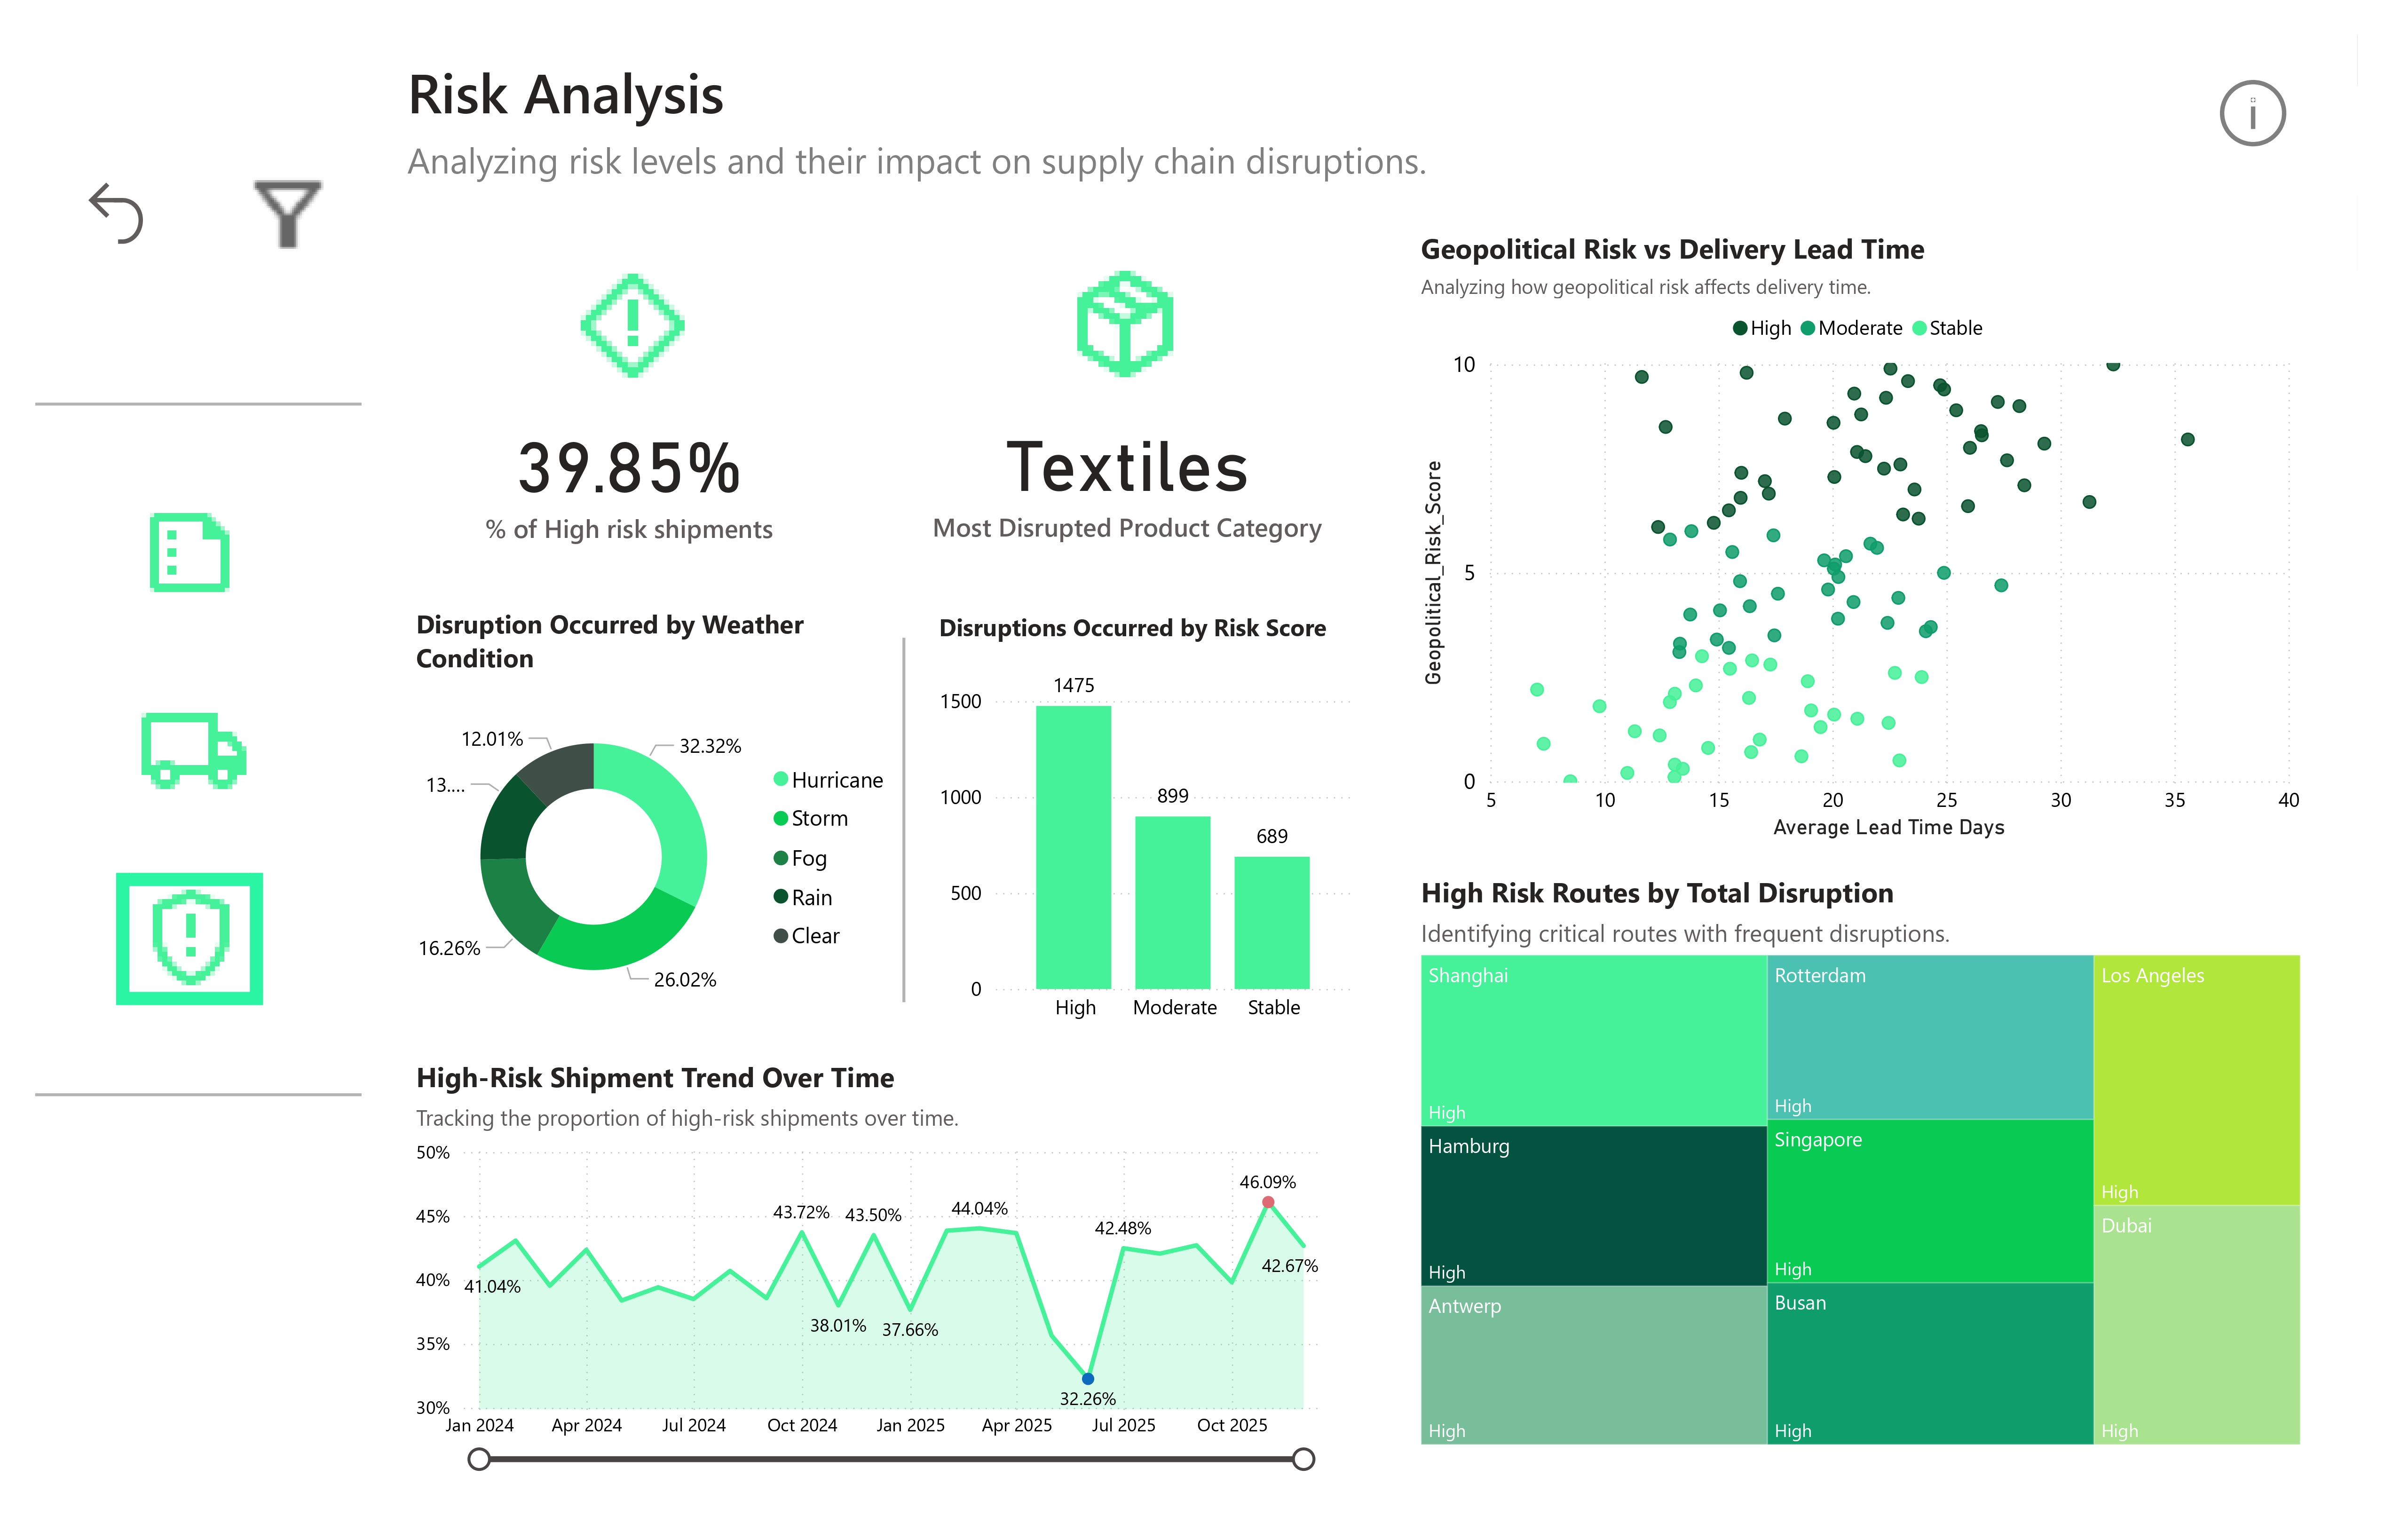

What the dashboard file says about the page in this screenshot:
{"tool":"powerbi","page":{"name":"Risk Analysis","canvas":[1580,1000],"ordinal":2},"visuals":[{"type":"shape","box":[0,0,222,1000],"z":0},{"type":"shape","box":[222,0,1358,108],"z":1000},{"type":"image","box":[64,294,82,116],"z":2000},{"type":"image","box":[64,440,88,94],"z":3000},{"type":"shape","box":[55,570,100,90],"z":4000},{"type":"image","box":[60,570,92,88],"z":5000},{"type":"shape","box":[0,170,222,162],"z":6000},{"type":"shape","box":[0,640,222,162],"z":7000},{"type":"actionButton","box":[28,94,56,54],"z":8000},{"type":"actionButton","box":[122,84,100,76],"z":9000},{"type":"textbox","box":[248,8,668,92],"z":10000},{"type":"textbox","box":[247.5,62.5,752.5,70],"z":11000},{"type":"shape","box":[240,120,328,252],"z":12000},{"type":"shape","box":[582.5,122.5,320,250],"z":13000},{"type":"shape","box":[240,387.5,662.5,295],"z":14000},{"type":"shape","box":[240,695,660,285],"z":15000},{"type":"shape","box":[920,122.5,637.5,430],"z":16000},{"type":"shape","box":[920,570,637.5,410],"z":17000},{"type":"actionButton","box":[1480,24,66,58],"z":18000},{"type":"card","fields":{"Values":["Measure Table.% of High risk shipments"]},"box":[254,226,300,148],"z":19000},{"type":"image","box":[357.5,150,97.5,95],"z":20000},{"type":"card","fields":{"Values":["Min(db_supply_chain_risk supply_data.Product_Category)"]},"box":[592.5,225,300,147.5],"z":21000},{"type":"image","box":[680,147.5,122.5,97.5],"z":22000},{"type":"scatterChart","title":"Geopolitical Risk vs Delivery Lead Time","fields":{"Y":["db_supply_chain_risk supply_data.Geopolitical_Risk_Score"],"Series":["db_supply_chain_risk supply_data.risk_score"],"X":["Avg(db_supply_chain_risk supply_data.Lead_Time_Days)"]},"box":[938,132,608,420],"z":23000},{"type":"treemap","title":"High Risk Routes by Total Disruption","fields":{"Group":["db_supply_chain_risk supply_data.Origin_Port"],"Values":["Sum(db_supply_chain_risk supply_data.Disruption_Occurred)"],"Details":["db_supply_chain_risk supply_data.risk_score"]},"box":[938,570,608,394],"z":24000},{"type":"donutChart","title":"Disruption Occurred by Weather Condition","fields":{"Category":["db_supply_chain_risk supply_data.Weather_Condition"],"Y":["Sum(db_supply_chain_risk supply_data.Disruption_Occurred)"]},"box":[254,388,338,296],"z":25000},{"type":"columnChart","title":"Disruptions Occurred by Risk Score","fields":{"Category":["db_supply_chain_risk supply_data.risk_score"],"Y":["Sum(db_supply_chain_risk supply_data.Disruption_Occurred)"]},"box":[610,392,292,288],"z":26000},{"type":"lineChart","title":"High-Risk Shipment Trend Over Time","fields":{"Category":["db_supply_chain_risk supply_data.Date.Variation.Date Hierarchy.Year","db_supply_chain_risk supply_data.Date.Variation.Date Hierarchy.Month"],"Y":["Measure Table.% of High risk shipments"]},"box":[254,696,638,284],"z":27000},{"type":"shape","box":[480,410,222,248],"z":28000}]}

Visuals, with their boxes on the page's 1580x1000 design canvas (x1, y1, x2, y2). These are canvas units, not pixel positions in the 2393x1540 screenshot, which may show the page scaled, cropped or inside an application window:
shape: 0 0 222 1000
shape: 222 0 1580 108
image: 64 294 146 410
image: 64 440 152 534
shape: 55 570 155 660
image: 60 570 152 658
shape: 0 170 222 332
shape: 0 640 222 802
actionButton: 28 94 84 148
actionButton: 122 84 222 160
textbox: 248 8 916 100
textbox: 248 62 1000 132
shape: 240 120 568 372
shape: 582 122 902 372
shape: 240 388 902 682
shape: 240 695 900 980
shape: 920 122 1558 552
shape: 920 570 1558 980
actionButton: 1480 24 1546 82
card - Measure Table.% of High risk shipments: 254 226 554 374
image: 358 150 455 245
card - Min(db_supply_chain_risk supply_data.Product_Category): 592 225 892 372
image: 680 148 802 245
"Geopolitical Risk vs Delivery Lead Time" scatterChart: 938 132 1546 552
"High Risk Routes by Total Disruption" treemap: 938 570 1546 964
"Disruption Occurred by Weather Condition" donutChart: 254 388 592 684
"Disruptions Occurred by Risk Score" columnChart: 610 392 902 680
"High-Risk Shipment Trend Over Time" lineChart: 254 696 892 980
shape: 480 410 702 658
